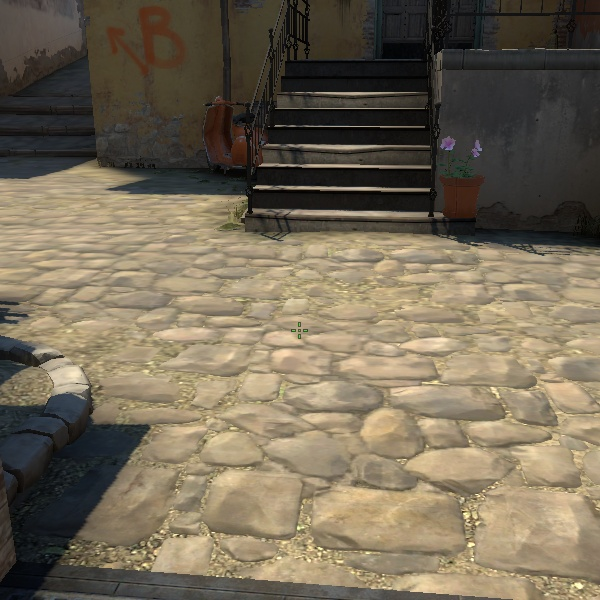t_body: (208, 92, 289, 229)
